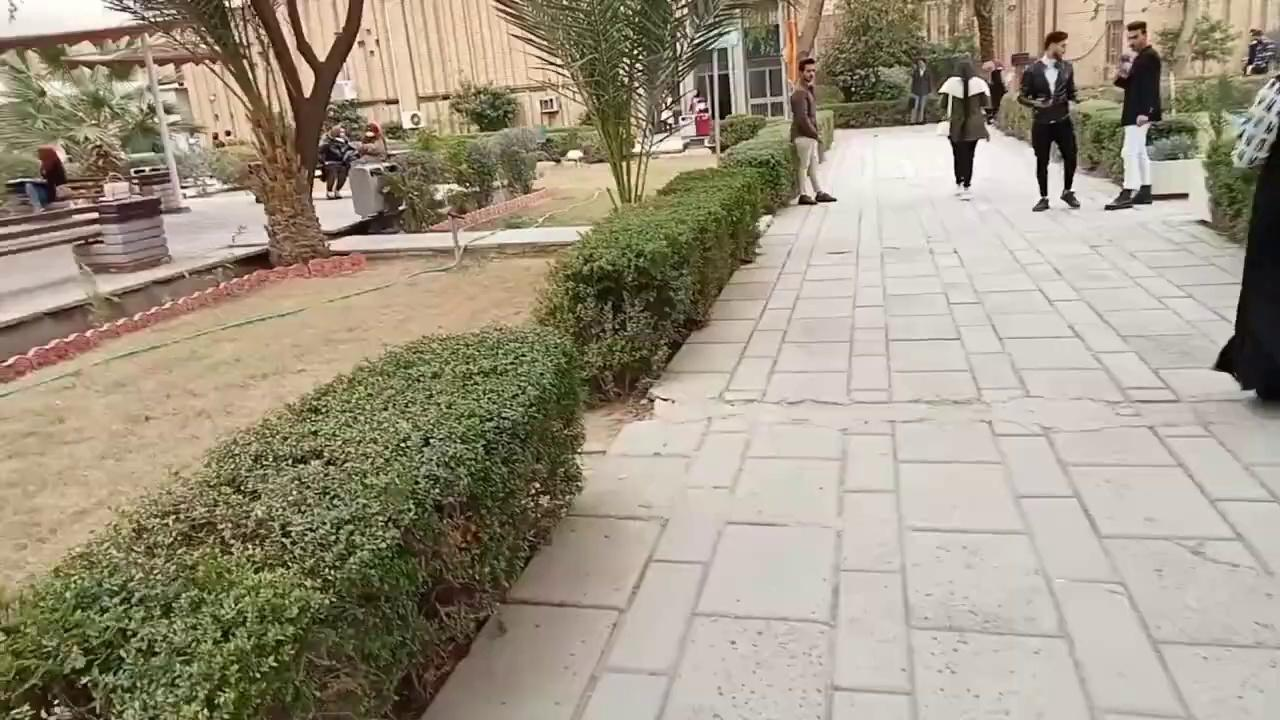person: (1212, 71, 1279, 403), (1018, 30, 1081, 211), (1104, 20, 1162, 209), (936, 57, 992, 190), (788, 57, 837, 204), (24, 141, 69, 214), (319, 123, 356, 199), (907, 56, 935, 124), (1242, 27, 1278, 76), (356, 120, 387, 162), (689, 92, 711, 137), (988, 68, 1006, 121), (211, 131, 225, 148)
tree: (100, 0, 365, 267), (490, 0, 742, 206), (0, 43, 152, 187), (382, 122, 548, 231), (816, 0, 927, 103), (447, 71, 519, 133), (1186, 13, 1236, 75)
